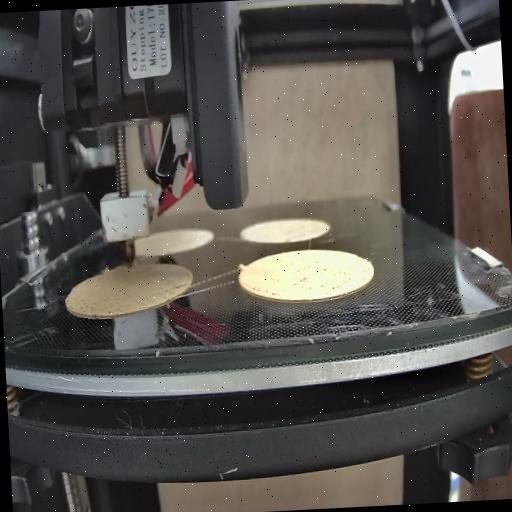under_extrusion: (290, 254, 358, 296), (75, 292, 113, 319), (160, 276, 190, 300), (248, 280, 278, 302)
